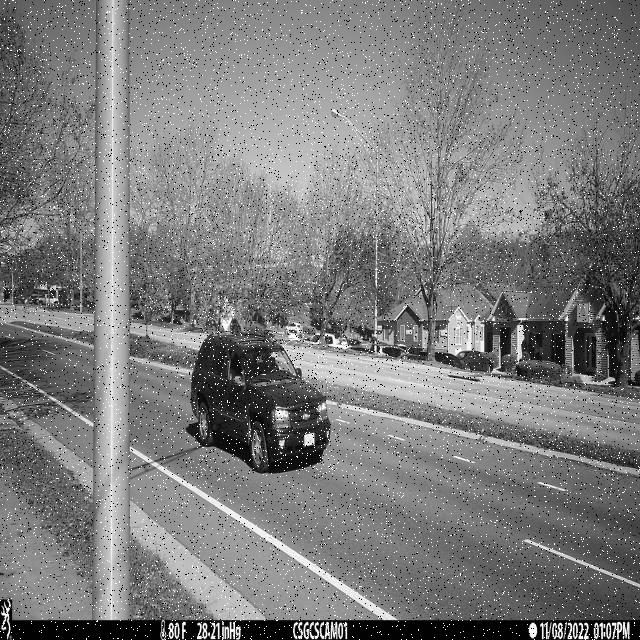SUV: (191, 330, 331, 474)
